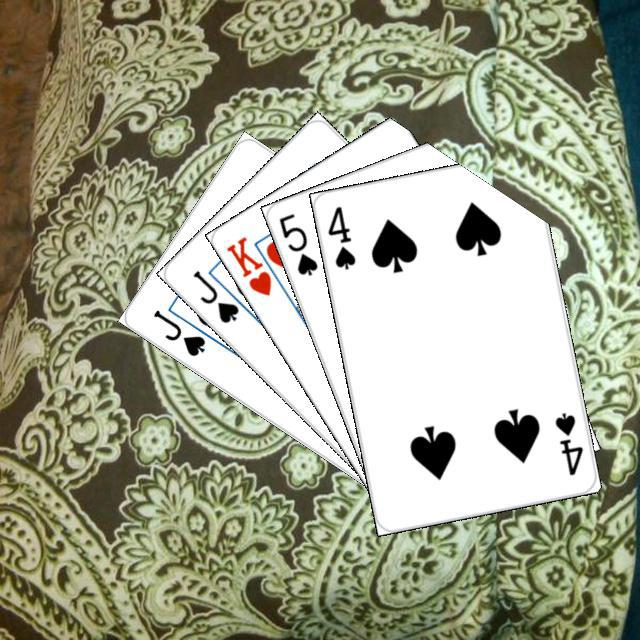4s: (322, 201, 358, 272), (550, 407, 585, 478)
5s: (274, 208, 320, 278)
Js: (148, 305, 208, 358), (188, 265, 241, 325)
Kh: (221, 231, 289, 298)
